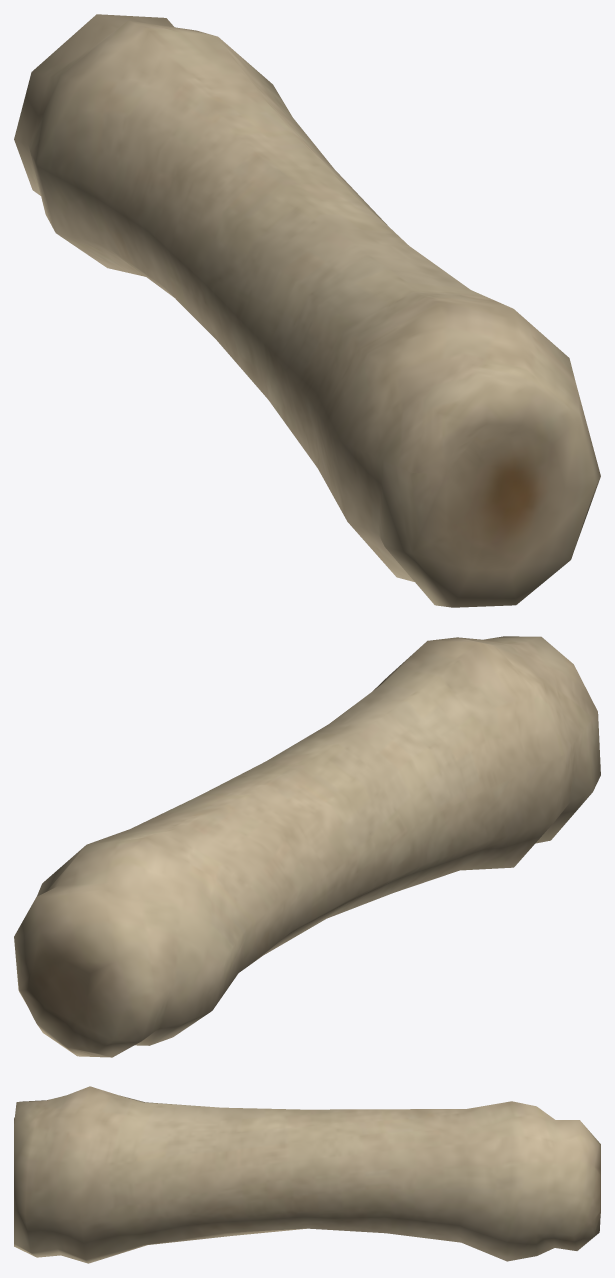
The model's file is Caudal_Vertebrae14.glb.
The picture shows the model from 3 angles, top to bottom: view 1: azimuth 30°, elevation 25°; view 2: azimuth 150°, elevation 25°; view 3: azimuth 270°, elevation 25°; orthographic projection. The views are drawn at different scales.
Parts seen in each view (by area): view 1: Caudal_Vertebrae_33:Group26605; view 2: Caudal_Vertebrae_33:Group26605; view 3: Caudal_Vertebrae_33:Group26605.
Part boxes in pixels (x1,y1,x2,y2): Caudal_Vertebrae_33:Group26605: [14, 14, 600, 607]; Caudal_Vertebrae_33:Group26605: [14, 636, 600, 1057]; Caudal_Vertebrae_33:Group26605: [14, 1086, 600, 1263].
Bounding box in the file's own units: 5.53 × 5.19 × 16.25.
1 material, 1 textured.
